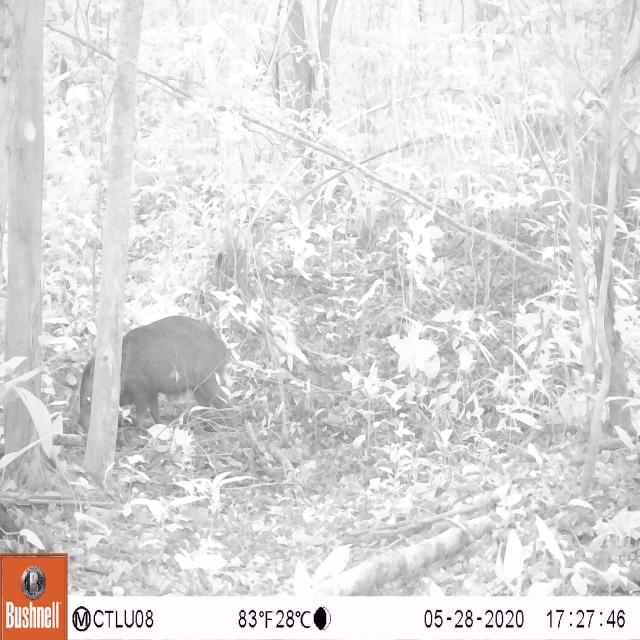Collared Peccary: (73, 307, 238, 443)
